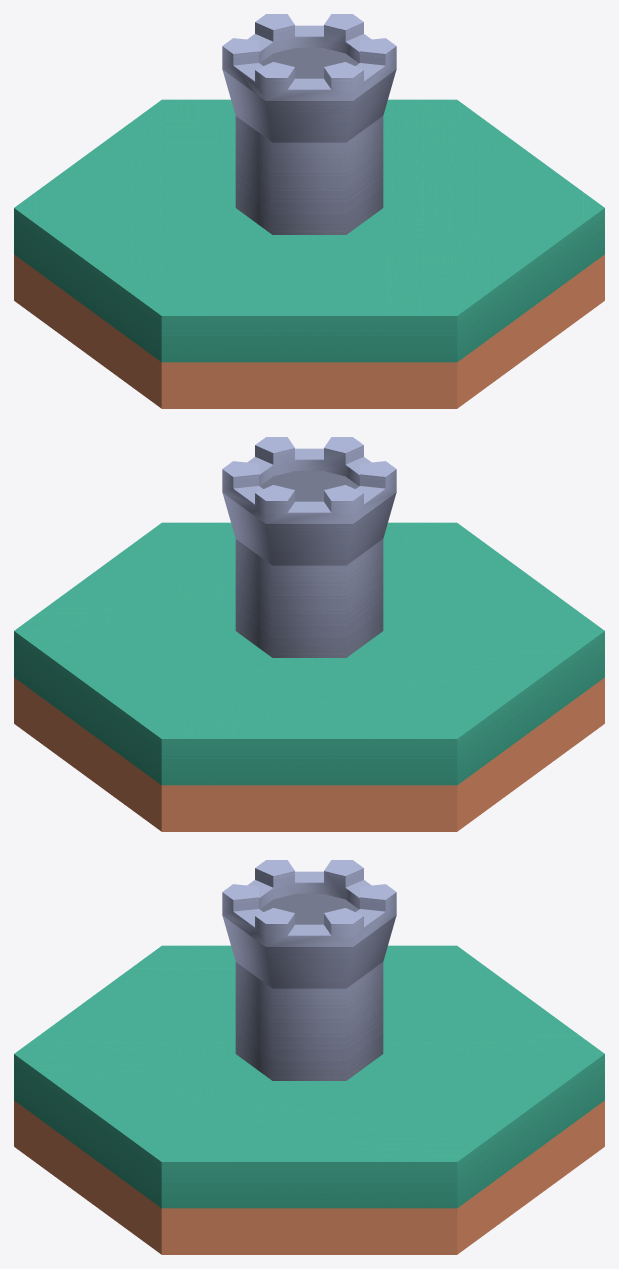
The model's file is grass-wall-tower.glb.
3 views of the same model, one above another, from view 1: azimuth 30°, elevation 25°; view 2: azimuth 150°, elevation 25°; view 3: azimuth 270°, elevation 25° (orthographic).
Visible parts, largest first — view 1: grass, unit-wall-tower; view 2: grass, unit-wall-tower; view 3: grass, unit-wall-tower.
Boxes of the visible parts, bbox=[...] form: grass: bbox=[14, 99, 604, 408]; unit-wall-tower: bbox=[222, 14, 396, 234]; grass: bbox=[14, 522, 604, 831]; unit-wall-tower: bbox=[222, 437, 396, 657]; grass: bbox=[14, 945, 604, 1254]; unit-wall-tower: bbox=[222, 860, 396, 1080].
Size of the model in its own units: 1 by 0.549 by 1.15.
Materials: 1 (1 with a texture image).
